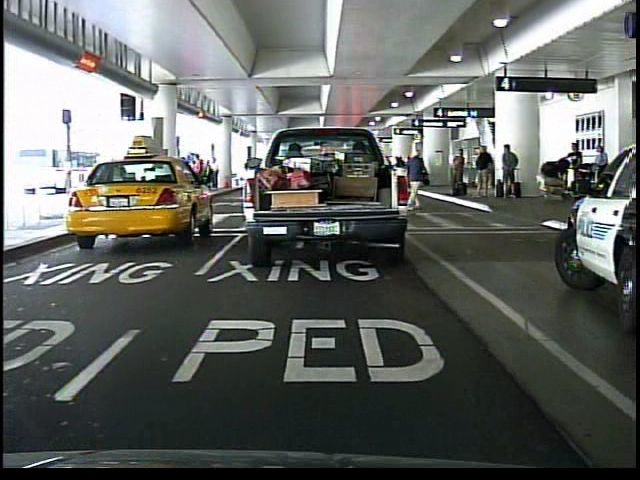person: (358, 138, 392, 224), (406, 146, 429, 215), (589, 139, 613, 200), (565, 139, 588, 200)
